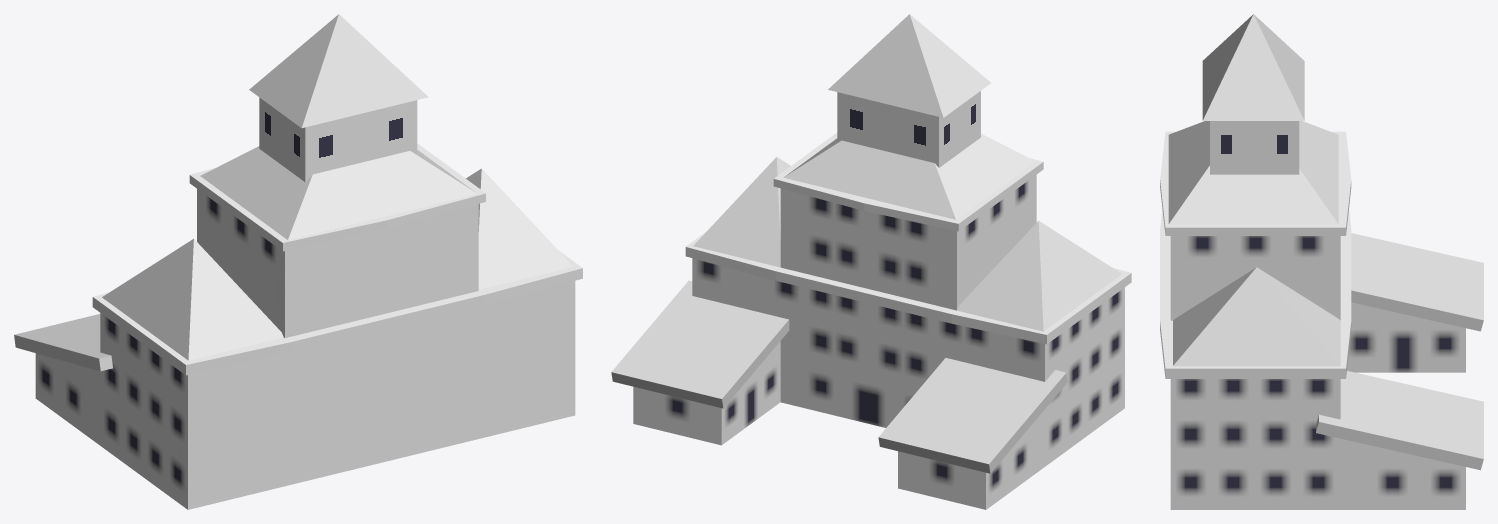
File: unipoldom3.fbx
3 renders of one model, left to right at view 1: azimuth 30°, elevation 25°; view 2: azimuth 150°, elevation 25°; view 3: azimuth 270°, elevation 25°, orthographic. The views are drawn at different scales.
Parts seen in each view (by area): view 1: cuboid, dach, dach_1, dach_3, cuboid_1, dach_2, dach_4; view 2: cuboid, dach_4, dach_5, dach, dach_1, dach_3, cuboid_1, dach_2; view 3: cuboid, dach, dach_2, dach_5, dach_4, dach_3, cuboid_1.
Part boxes in pixels (box(x1,y1,x2,y2)): cuboid: box(35, 143, 582, 509); dach: box(200, 146, 477, 239); dach_1: box(102, 239, 283, 360); dach_3: box(249, 14, 428, 128); cuboid_1: box(259, 97, 417, 182); dach_2: box(466, 168, 573, 289); dach_4: box(14, 314, 112, 371); cuboid: box(633, 132, 1131, 509); dach_4: box(878, 358, 1067, 473); dach_5: box(611, 280, 789, 408); dach: box(783, 133, 1035, 219); dach_1: box(957, 220, 1121, 331); dach_3: box(828, 14, 990, 117); cuboid_1: box(837, 91, 980, 167); dach_2: box(693, 157, 790, 267); cuboid: box(1160, 131, 1465, 509); dach: box(1168, 121, 1338, 224); dach_2: box(1173, 267, 1340, 366); dach_5: box(1316, 371, 1483, 470); dach_4: box(1351, 233, 1483, 331); dach_3: box(1202, 14, 1304, 120); cuboid_1: box(1210, 121, 1299, 174).
Bounding box in the file's own units: 273 × 262 × 190.
Materials: 2 (2 with a texture image).
